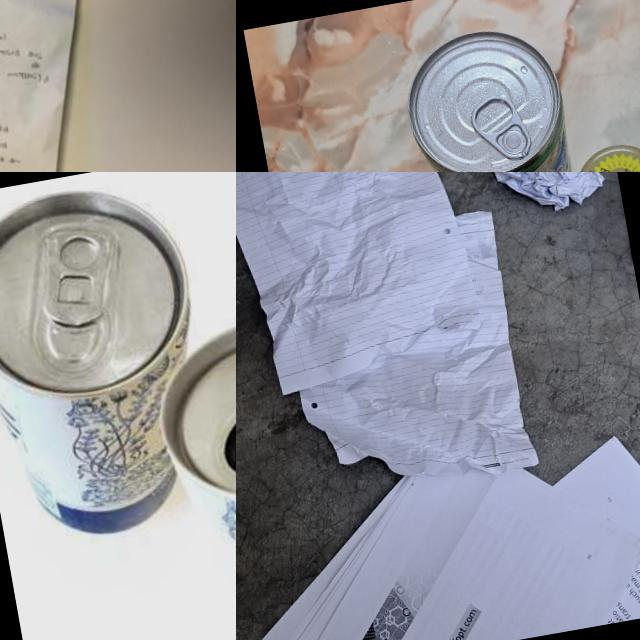aba de lata: (27, 210, 128, 343), (468, 91, 535, 167)
lata: (0, 175, 227, 555), (141, 291, 236, 640), (397, 19, 582, 172)
papel: (236, 172, 540, 516), (236, 417, 640, 640), (0, 0, 161, 172), (487, 172, 605, 223)
